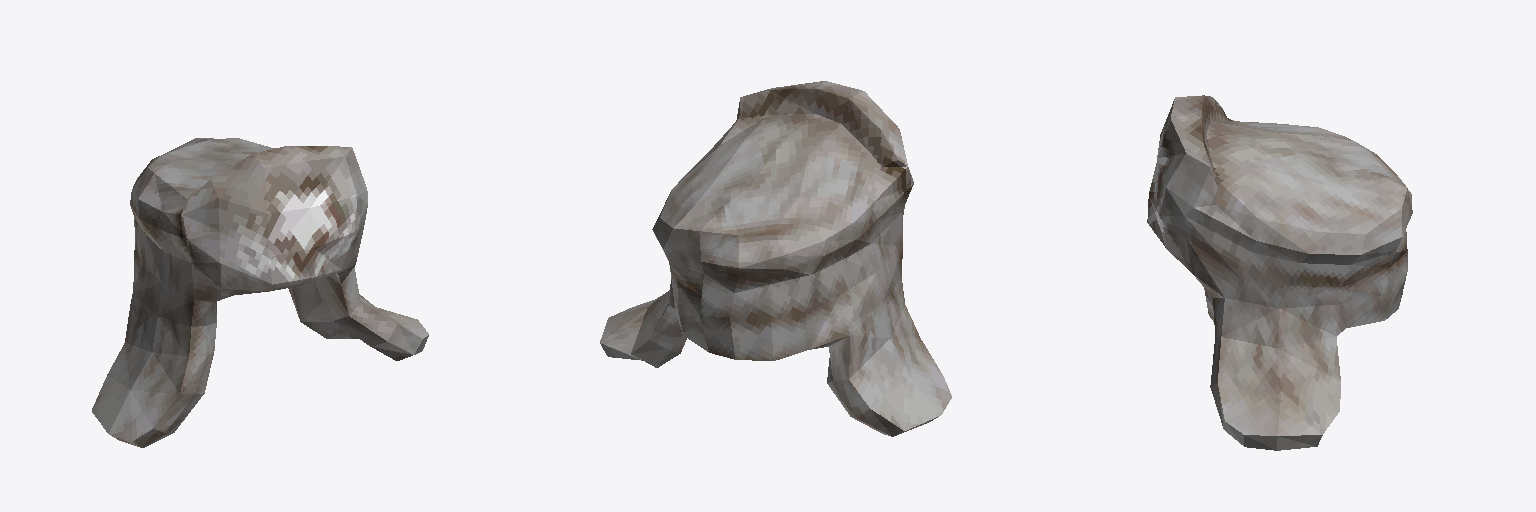
The picture shows the model from 3 angles: view 1: azimuth 30°, elevation 25°; view 2: azimuth 150°, elevation 25°; view 3: azimuth 270°, elevation 25°; orthographic projection.
Parts seen in each view (by area): view 1: revolution_hat_low; view 2: revolution_hat_low; view 3: revolution_hat_low.
Boxes of the visible parts, <box> form: revolution_hat_low: <box>92,138,428,447</box>; revolution_hat_low: <box>600,81,951,436</box>; revolution_hat_low: <box>1147,95,1412,450</box>.
Size of the model in its own units: 0.3695 by 0.3095 by 0.2642.
Materials: 1 (1 with a texture image).